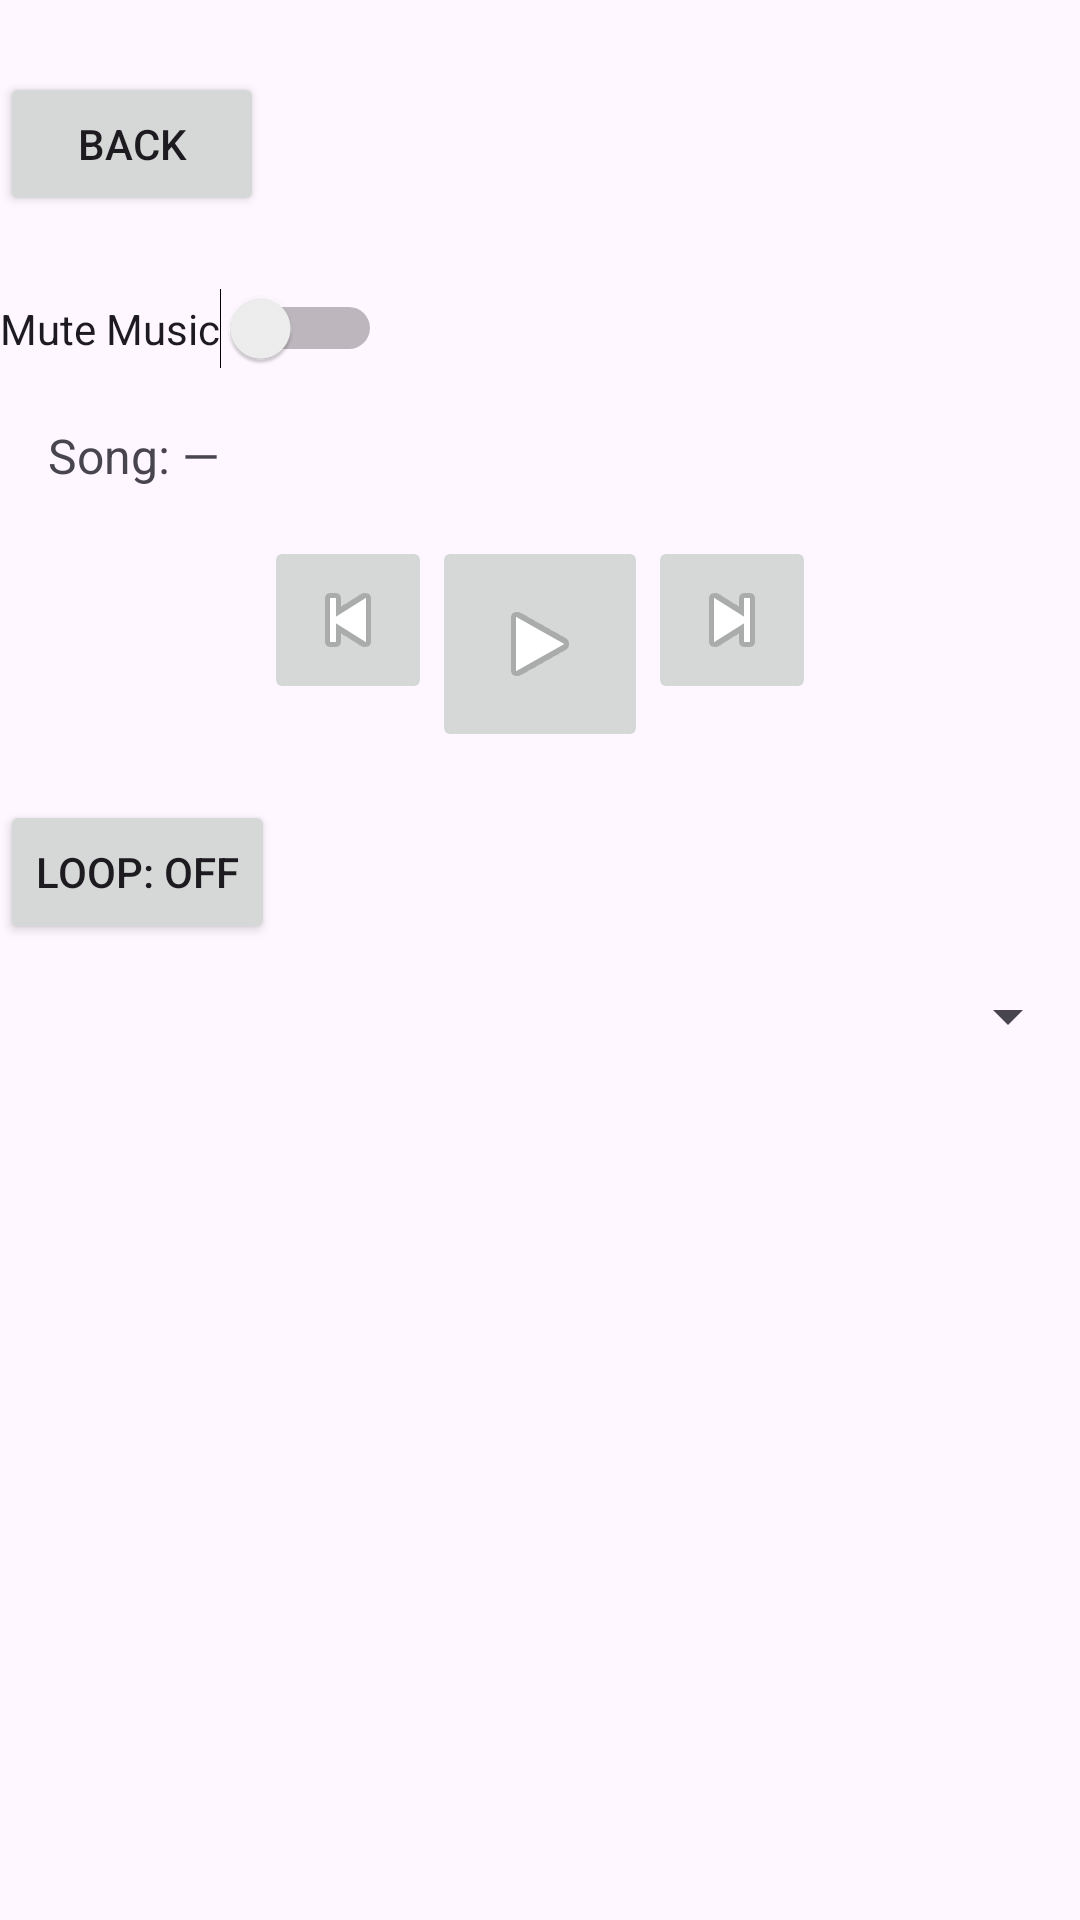

Screen size 1080 × 1920. Icon name, then its center in pixels as point (x, y):
Next: point (732, 620)
play: point (540, 644)
Prev: point (348, 620)
